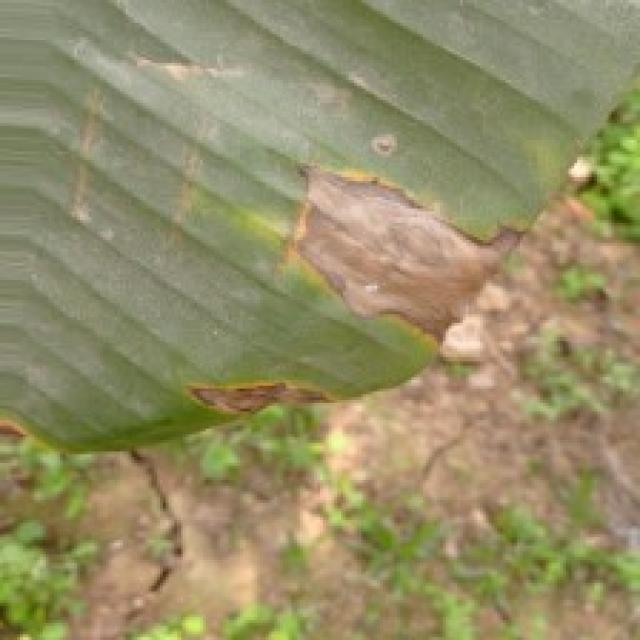Bacterial_spot: (275, 152, 534, 338), (157, 114, 217, 278), (119, 34, 260, 98), (57, 85, 108, 259), (176, 374, 338, 424), (365, 122, 404, 173), (0, 399, 37, 446)
